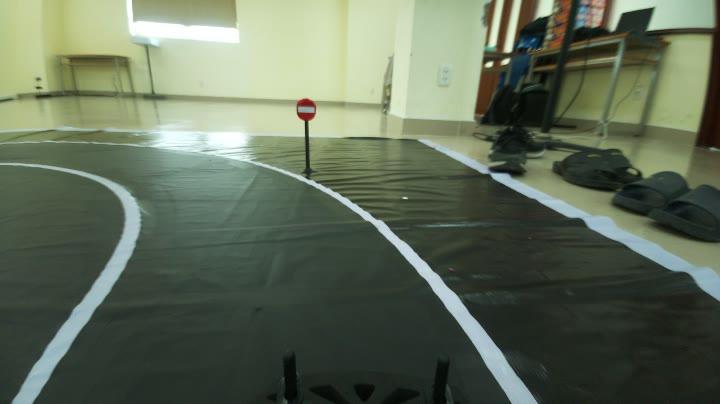no_entry: (290, 99, 320, 123)
